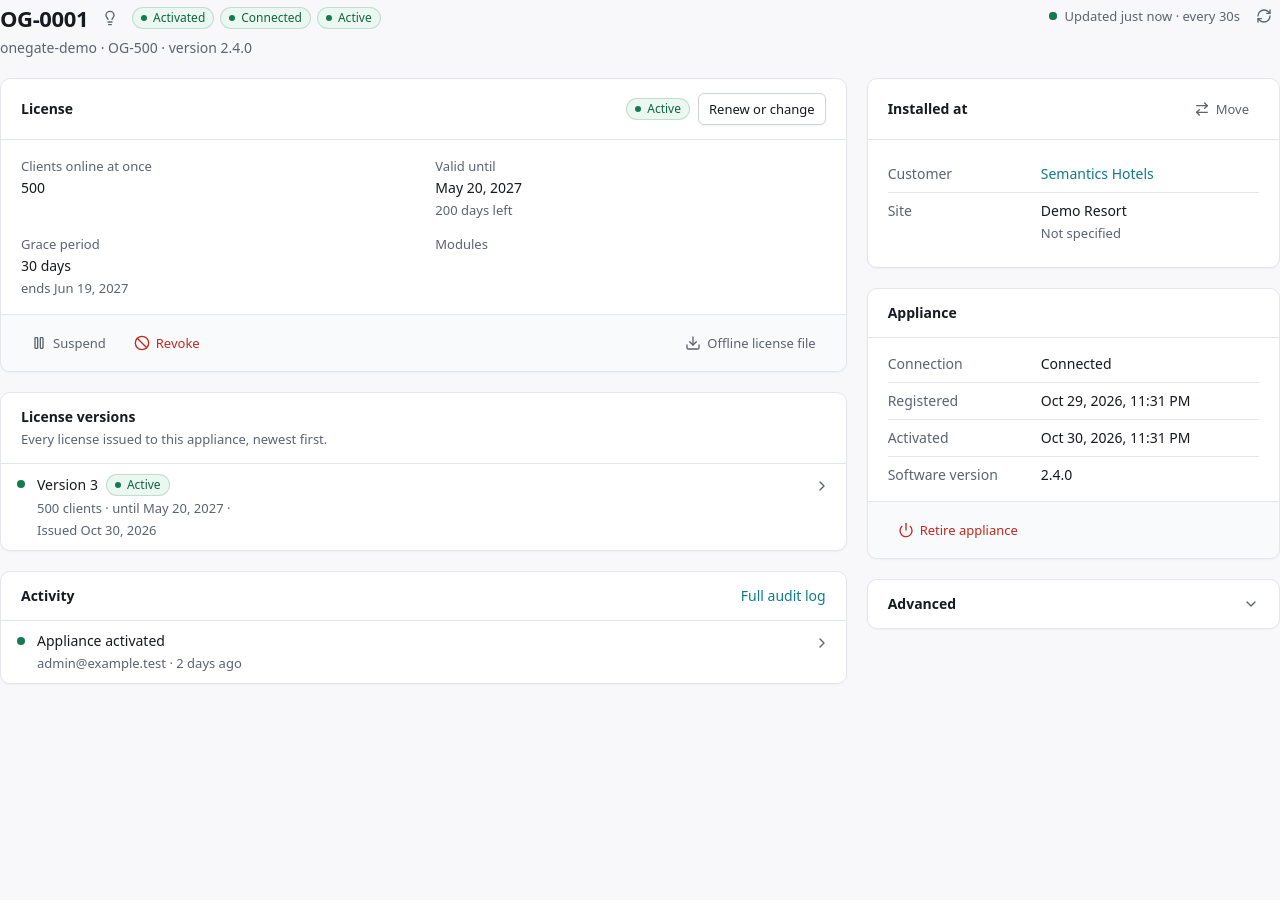
Scenario: Move — same customer only › with no other active site, says so and cannot submit
Click the button "Move".
click(1221, 109)  # box top-left (1184, 93), bottom-right (1259, 125)
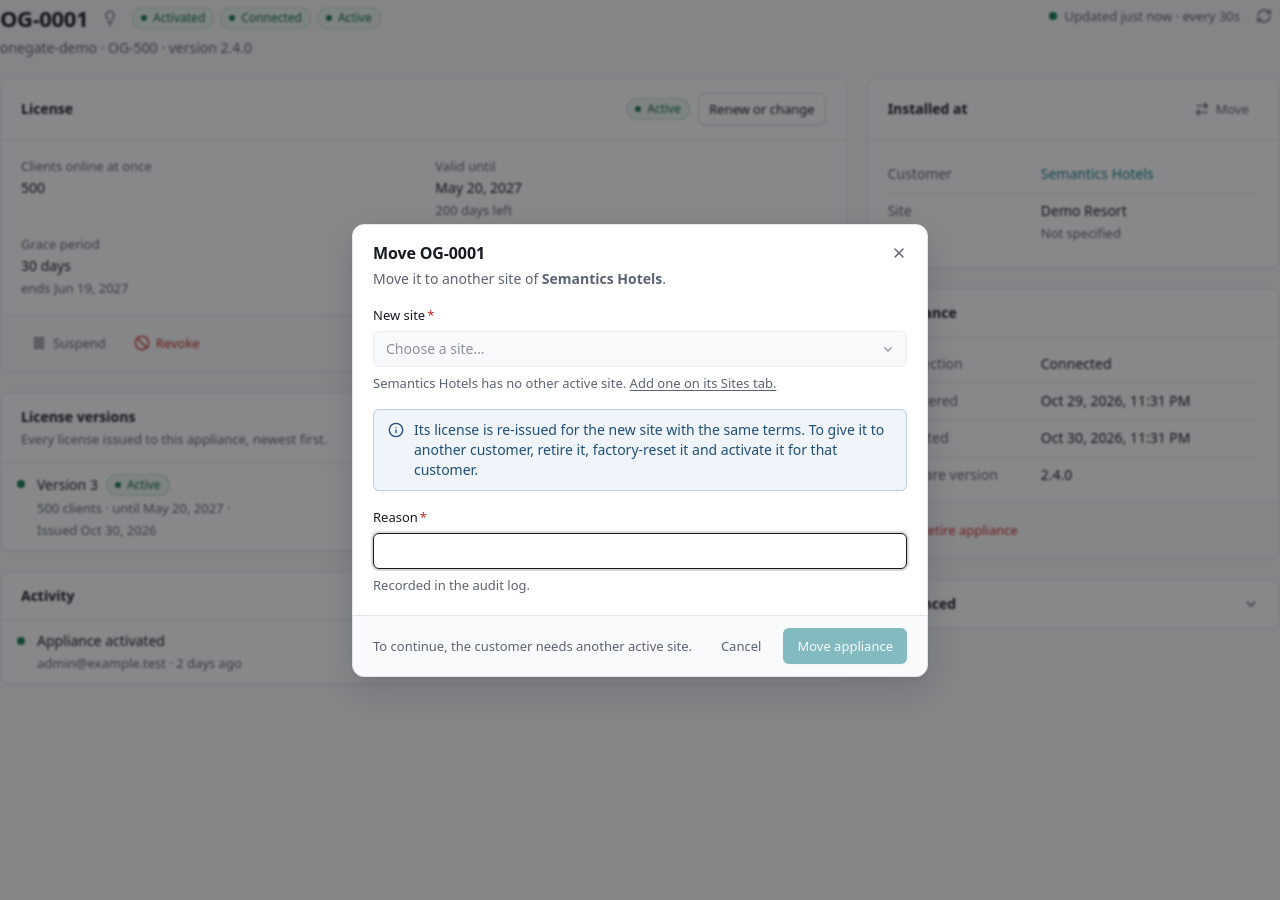
expect the text "has no other active site" is shown: met, box top-left (478, 374), bottom-right (626, 392)
expect the button "Move appliance" is disabled: met, box top-left (783, 628), bottom-right (907, 664)
